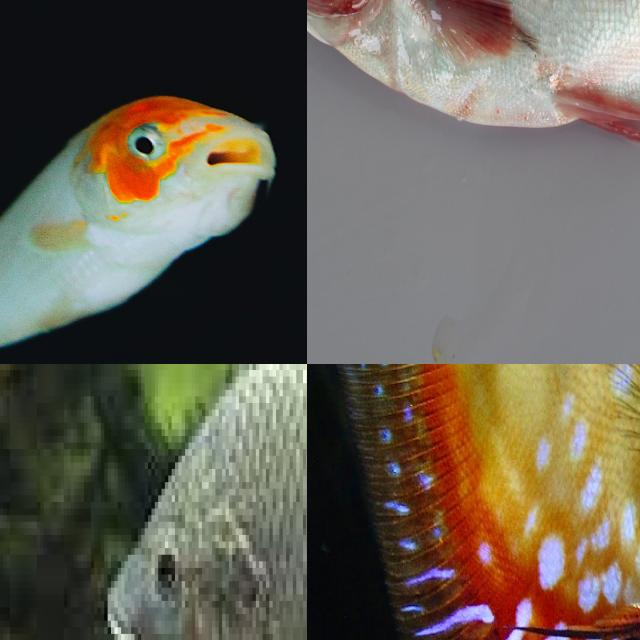fish: (0, 0, 307, 364), (321, 364, 640, 640), (20, 364, 307, 640), (307, 0, 640, 169)
